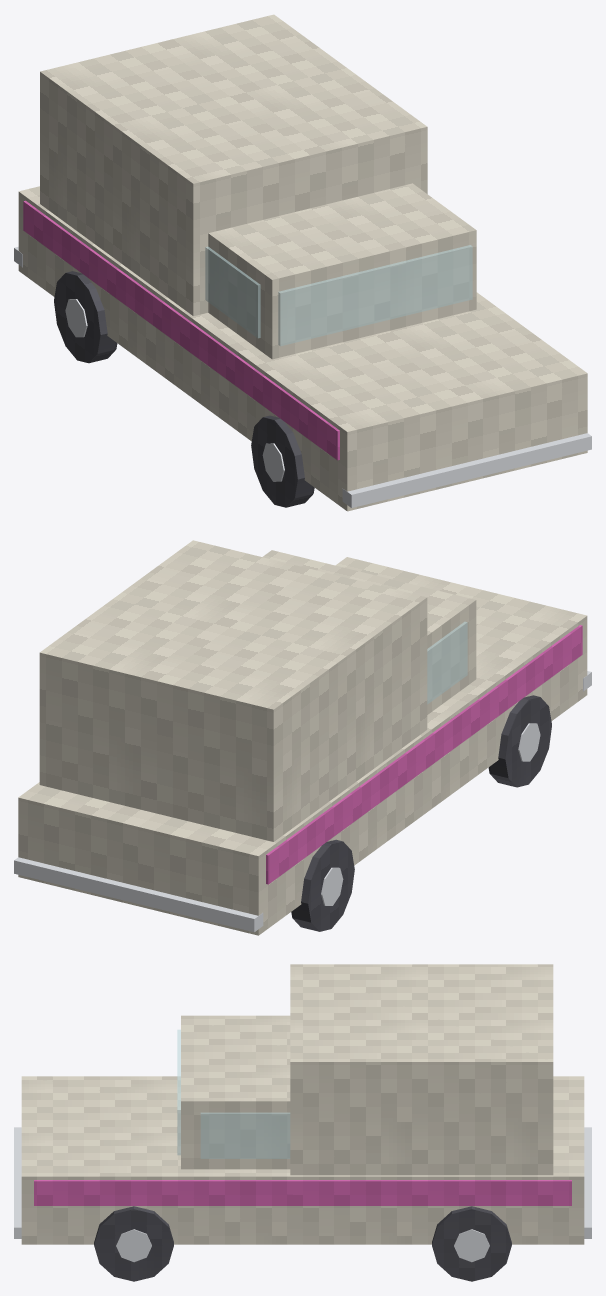
The model's file is retro-arcade-and-mall-1989-striped-van-3e1e0b97__15549.glb.
3 views of the same model, one above another, from view 1: azimuth 30°, elevation 25°; view 2: azimuth 150°, elevation 25°; view 3: azimuth 270°, elevation 25° (orthographic). The views are drawn at different scales.
Parts seen in each view (by area): view 1: striped-van; view 2: striped-van; view 3: striped-van.
Boxes of the visible parts, x1,y1,x2,y2 form: striped-van: (14,14,591,511); striped-van: (14,540,591,935); striped-van: (14,964,591,1281).
Bounding box in the file's own units: 2.03 × 1.9 × 4.62.
5 materials, 3 textured.
